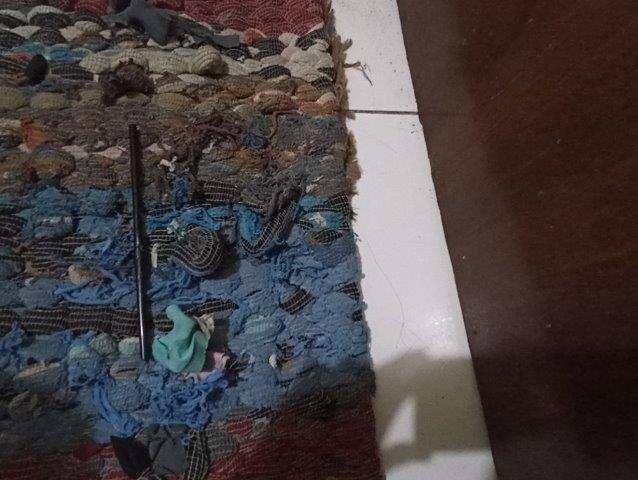sedotan: (128, 125, 152, 361)
